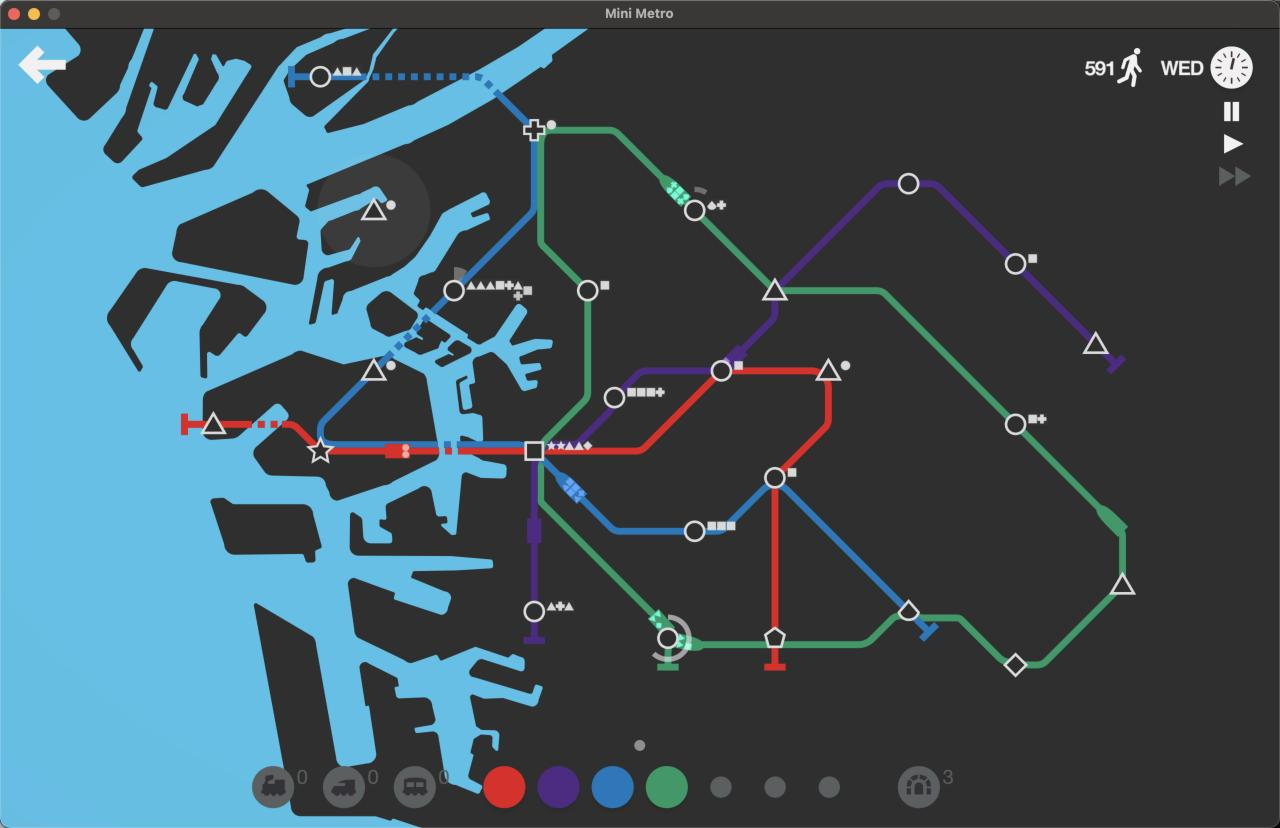BLUE LINE: (780, 485, 903, 607), (316, 381, 524, 447), (461, 142, 537, 285), (546, 459, 685, 536), (331, 71, 531, 124), (378, 298, 450, 367), (706, 486, 767, 534), (287, 66, 311, 90), (919, 619, 939, 642)
DARK GREEN LINE: (787, 286, 1011, 421), (539, 463, 671, 629), (1021, 430, 1126, 574), (546, 128, 689, 207), (541, 301, 591, 442), (1026, 593, 1116, 669), (537, 136, 582, 285), (701, 219, 774, 287), (926, 612, 1010, 664), (783, 614, 903, 649), (680, 639, 771, 649), (658, 651, 682, 674)
PURPLE LINE: (781, 181, 896, 284), (923, 180, 1009, 261), (1025, 273, 1091, 339), (549, 407, 614, 447), (728, 317, 774, 362), (622, 368, 709, 389), (529, 461, 539, 599), (524, 624, 545, 646), (1106, 351, 1128, 371), (765, 302, 779, 318)
RED LINE: (547, 378, 715, 455), (781, 381, 833, 475), (221, 420, 316, 445), (331, 446, 522, 457), (771, 489, 779, 629), (734, 367, 816, 375), (181, 411, 206, 435), (766, 649, 786, 671)
